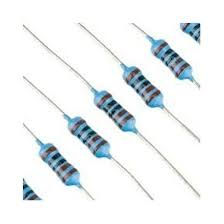resistor: (62, 110, 119, 164), (91, 83, 141, 139), (120, 59, 171, 113), (147, 37, 201, 85), (38, 140, 86, 192)
